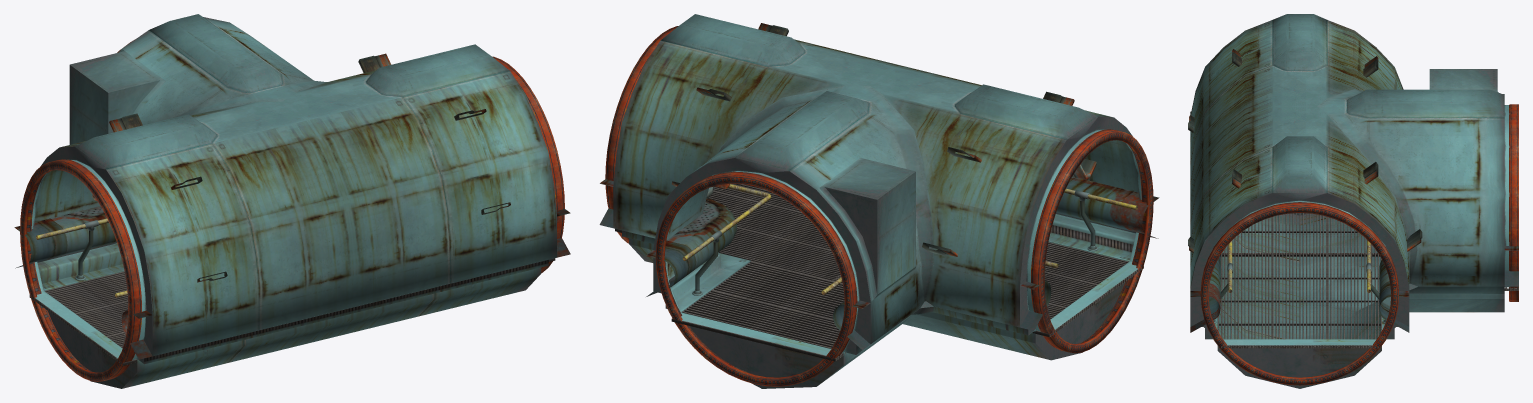
Rendered from tau_tunnel_3way.dae.
The picture shows the model from 3 angles, left to right: view 1: azimuth 30°, elevation 25°; view 2: azimuth 150°, elevation 25°; view 3: azimuth 270°, elevation 25°; orthographic projection. The views are drawn at different scales.
Visible parts, largest first — view 1: polySurface399, pPipe55, polySurface398, polySurface34, pPipe54, polySurface35, pCylinder89, railing_pplant_short_chainlink9; view 2: polySurface399, polySurface39, pPipe56, pPipe55, polySurface31, polySurface397, pCylinder89, polySurface32, polySurface36, pPipe54, polySurface35, polySurface398 (+5 smaller); view 3: polySurface399, pPipe54, polySurface32, polySurface33, polySurface31, pPipe56, polySurface35, polySurface397, pCylinder89, polySurface36, polySurface34, polySurface221 (+2 smaller).
Part boxes in pixels (left/top/right/bottom): polySurface399: left=31, top=14, right=556, bottom=388; pPipe55: left=20, top=159, right=141, bottom=381; polySurface398: left=14, top=206, right=116, bottom=268; polySurface34: left=29, top=271, right=127, bottom=319; pPipe54: left=492, top=56, right=564, bottom=272; polySurface35: left=61, top=301, right=128, bottom=342; pCylinder89: left=121, top=209, right=570, bottom=359; railing_pplant_short_chainlink9: left=36, top=218, right=108, bottom=280; polySurface399: left=613, top=14, right=1141, bottom=388; polySurface39: left=671, top=261, right=845, bottom=361; pPipe56: left=655, top=171, right=857, bottom=386; pPipe55: left=1031, top=129, right=1153, bottom=353; polySurface31: left=615, top=227, right=840, bottom=281; polySurface397: left=599, top=179, right=736, bottom=296; pCylinder89: left=1056, top=177, right=1159, bottom=238; polySurface32: left=708, top=191, right=830, bottom=249; polySurface36: left=1044, top=242, right=1143, bottom=290; pPipe54: left=605, top=26, right=678, bottom=243; polySurface35: left=1044, top=272, right=1112, bottom=313; polySurface398: left=833, top=265, right=1051, bottom=350; polySurface399: left=1190, top=14, right=1509, bottom=388; pPipe54: left=1200, top=202, right=1398, bottom=385; polySurface32: left=1272, top=253, right=1327, bottom=348; polySurface33: left=1217, top=253, right=1272, bottom=348; polySurface31: left=1327, top=253, right=1381, bottom=348; pPipe56: left=1509, top=104, right=1518, bottom=301; polySurface35: left=1272, top=213, right=1327, bottom=253; polySurface397: left=1379, top=246, right=1518, bottom=332; pCylinder89: left=1190, top=111, right=1220, bottom=332; polySurface36: left=1222, top=217, right=1272, bottom=253; polySurface34: left=1327, top=217, right=1377, bottom=253; polySurface221: left=1363, top=162, right=1422, bottom=251.
Size of the model in its own units: 8 by 4.17 by 6.04.
